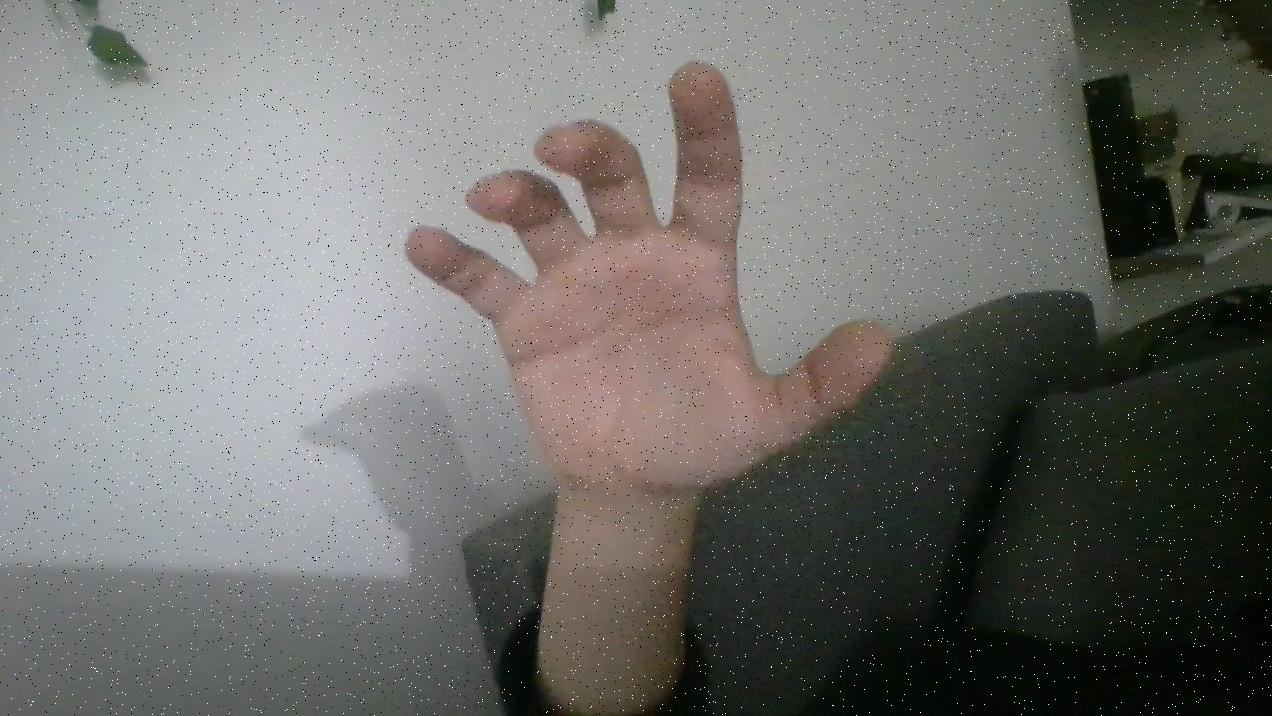hi: (376, 40, 908, 508)
